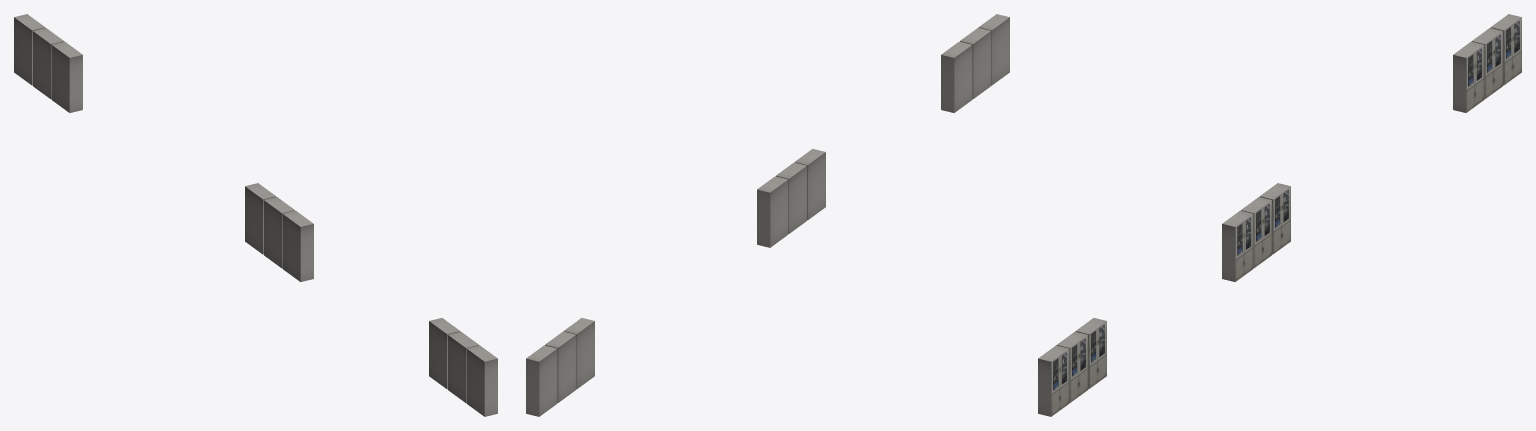
File: NeiBu03.glb
The picture shows the model from 3 angles, left to right: view 1: azimuth 30°, elevation 25°; view 2: azimuth 150°, elevation 25°; view 3: azimuth 330°, elevation 25°; orthographic projection.
Parts seen in each view (by area): view 1: NeiBu03; view 2: NeiBu03; view 3: NeiBu03.
Boxes of the visible parts, x1,y1,x2,y2 form: NeiBu03: [14, 14, 497, 416]; NeiBu03: [526, 14, 1009, 416]; NeiBu03: [1038, 14, 1521, 416].
Size of the model in its own units: 2.27 by 9.06 by 140.
Materials: 1 (1 with a texture image).
